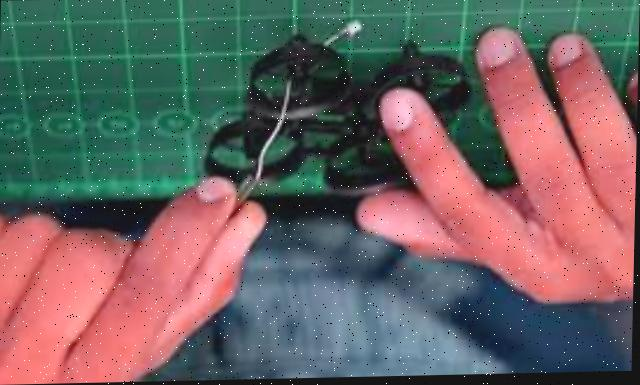drone: (189, 29, 480, 208)
